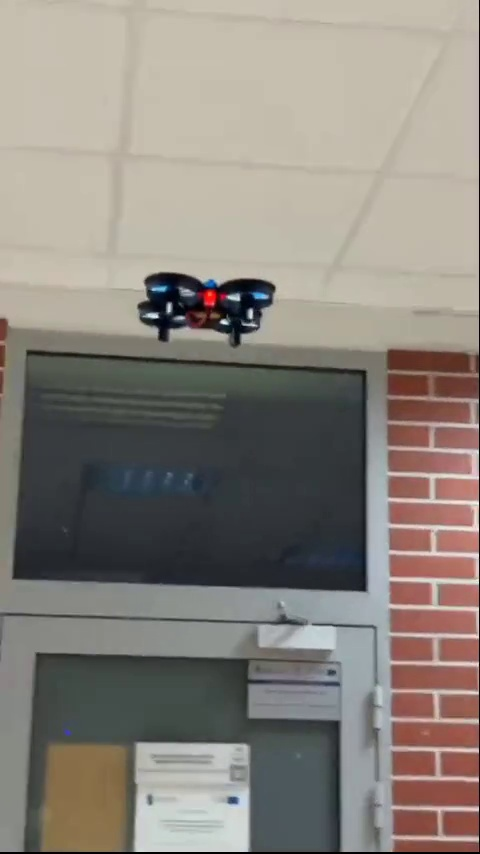drone: (138, 267, 275, 345)
